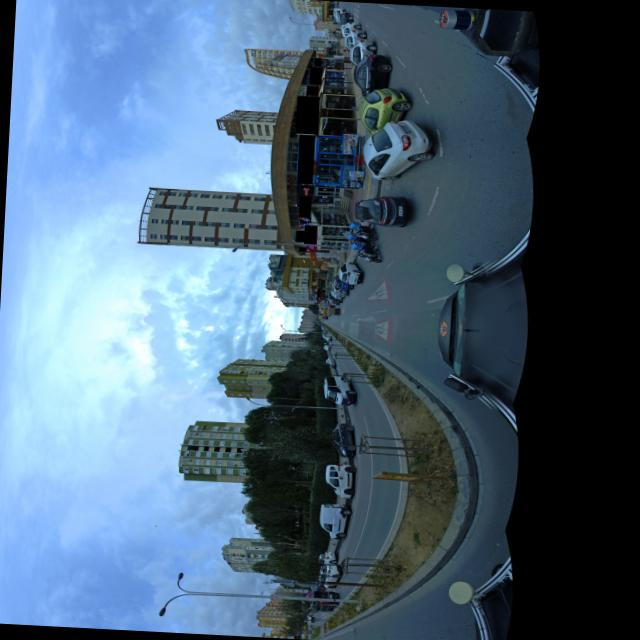SignStore: (296, 95, 320, 134), (297, 134, 315, 183), (300, 195, 311, 217), (310, 66, 322, 84), (305, 225, 317, 243), (307, 85, 319, 95), (296, 229, 305, 241), (315, 57, 322, 66), (299, 246, 307, 251), (318, 288, 320, 297), (295, 635, 297, 639)
